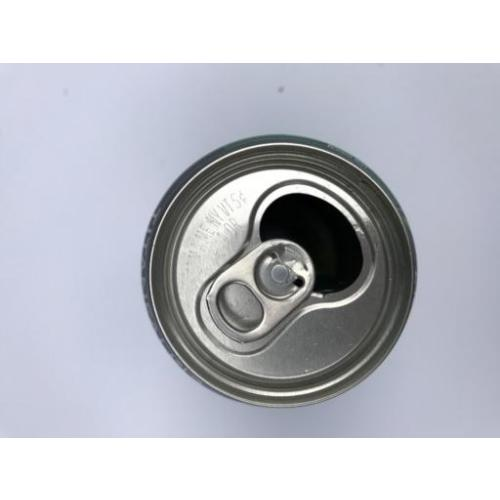metal: (141, 137, 417, 410)
